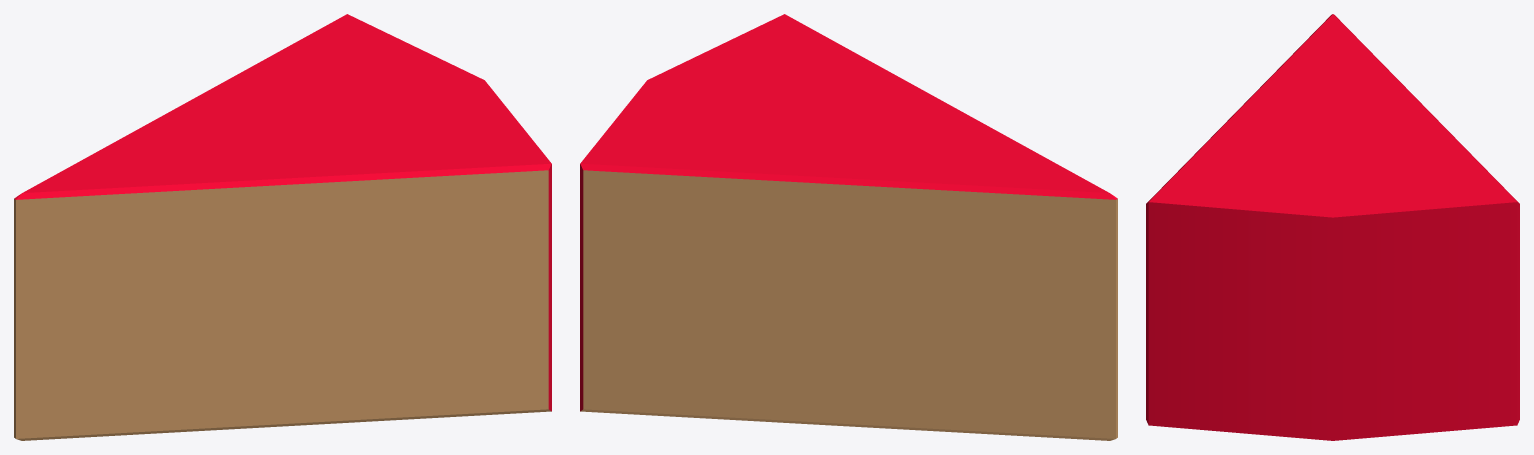
The model's file is slice_pivot_point.fbx.
The picture shows the model from 3 angles, left to right: view 1: azimuth 30°, elevation 25°; view 2: azimuth 150°, elevation 25°; view 3: azimuth 270°, elevation 25°; orthographic projection. The views are drawn at different scales.
Parts seen in each view (by area): view 1: pieSlicepivot; view 2: pieSlicepivot; view 3: pieSlicepivot.
Boxes of the visible parts, bbox=[...] form: pieSlicepivot: bbox=[14, 14, 551, 440]; pieSlicepivot: bbox=[580, 14, 1117, 440]; pieSlicepivot: bbox=[1146, 14, 1519, 440].
Bounding box in the file's own units: 29.76 × 15 × 22.76.
